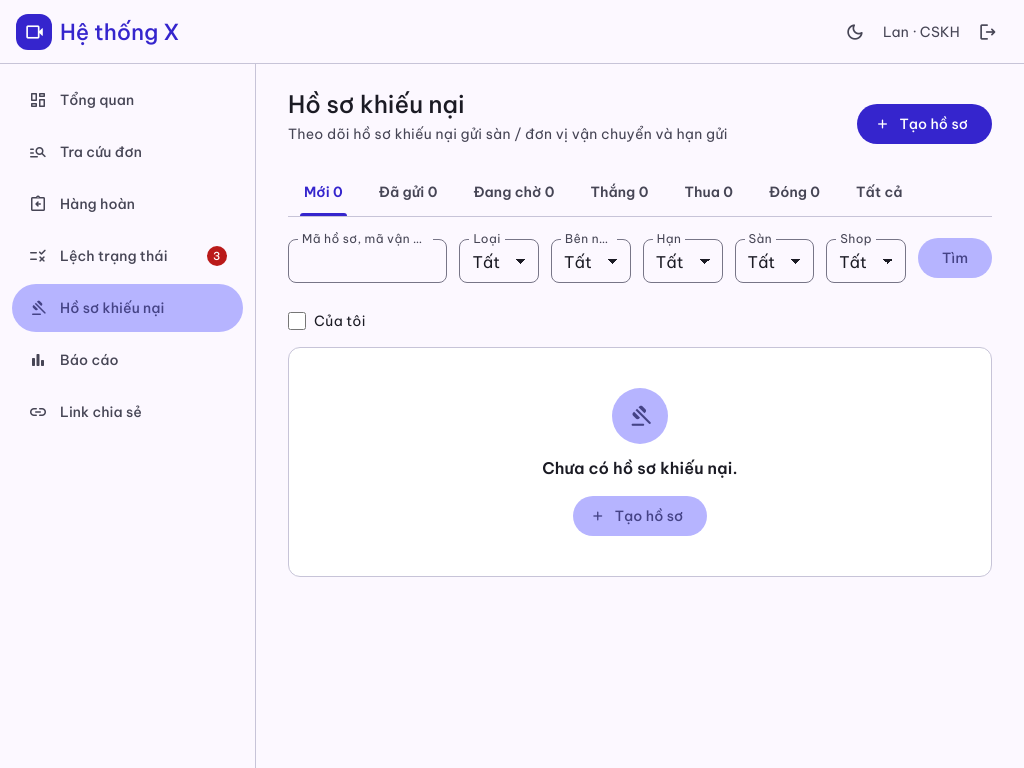
Scenario: trống → 'Chưa có hồ sơ khiếu nại.' + Tạo hồ sơ; lỗi → Alert + Thử lại
Check: the text "Chưa có hồ sơ khiếu nại." is shown, box [542,456,738,480]
Check: the number of buttons "Tạo hồ sơ" is 2, box [857,104,992,144]; [573,496,707,536]
Click the tab "Đóng 0" at x=795, y=192, box [753,168,836,216]
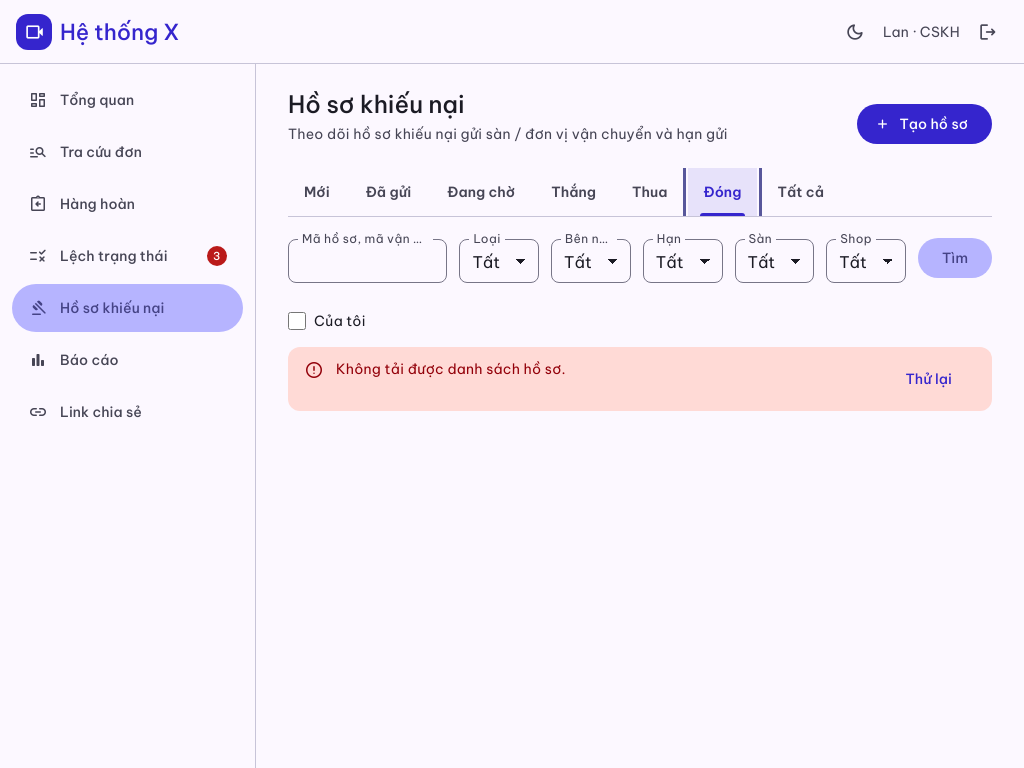
Check: the text "Không tải được danh sách hồ sơ." is shown, box [336,360,566,378]
Click the button "Thử lại" at x=929, y=379, box [882,359,976,399]
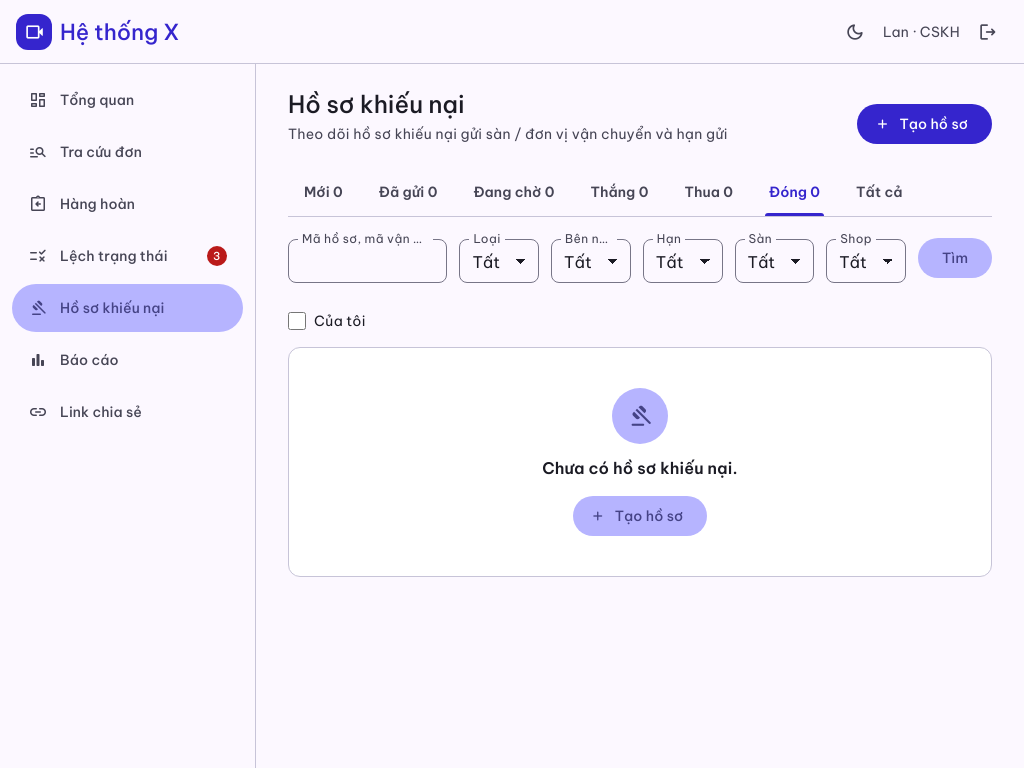
Check: the text "Chưa có hồ sơ khiếu nại." is shown, box [542,456,738,480]
